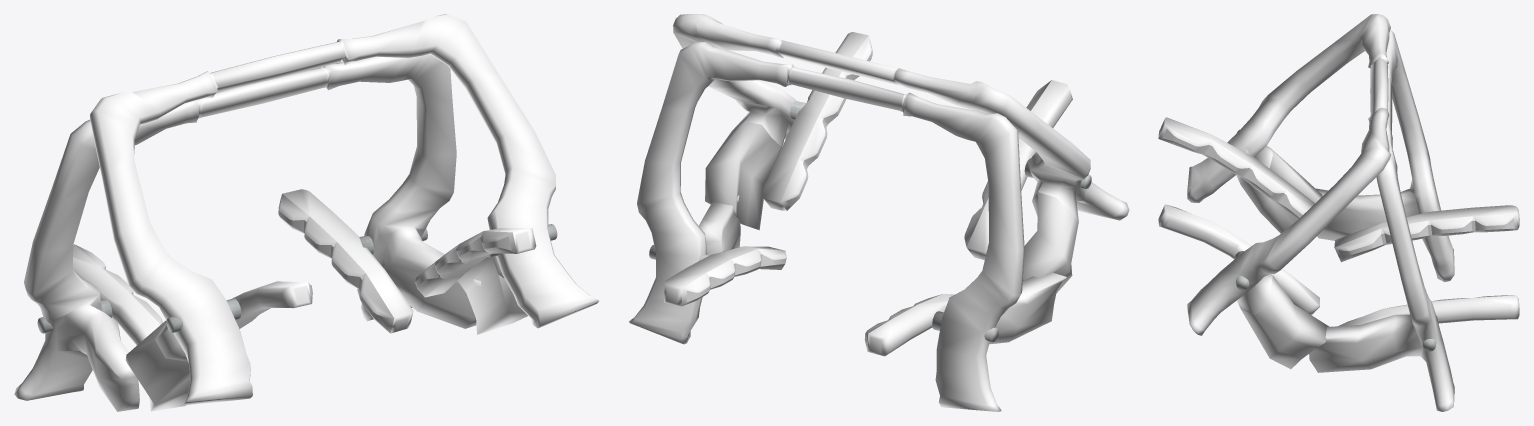
The model's file is Freios padrao.glb.
The picture shows the model from 3 angles, left to right: view 1: azimuth 30°, elevation 25°; view 2: azimuth 150°, elevation 25°; view 3: azimuth 270°, elevation 25°; orthographic projection. The views are drawn at different scales.
Parts seen in each view (by area): view 1: Freio traseiro, Freio frontal; view 2: Freio frontal, Freio traseiro; view 3: Freio traseiro, Freio frontal.
Part boxes in pixels (box(x1,y1,x2,y2)): Freio traseiro: box(90, 14, 598, 411); Freio frontal: box(14, 54, 481, 411); Freio frontal: box(628, 42, 1066, 411); Freio traseiro: box(673, 14, 1129, 293); Freio traseiro: box(1158, 14, 1390, 369); Freio frontal: box(1309, 30, 1519, 411).
Bounding box in the file's own units: 0.1576 × 0.1142 × 0.1413.
Materials: 4 (1 with a texture image).
